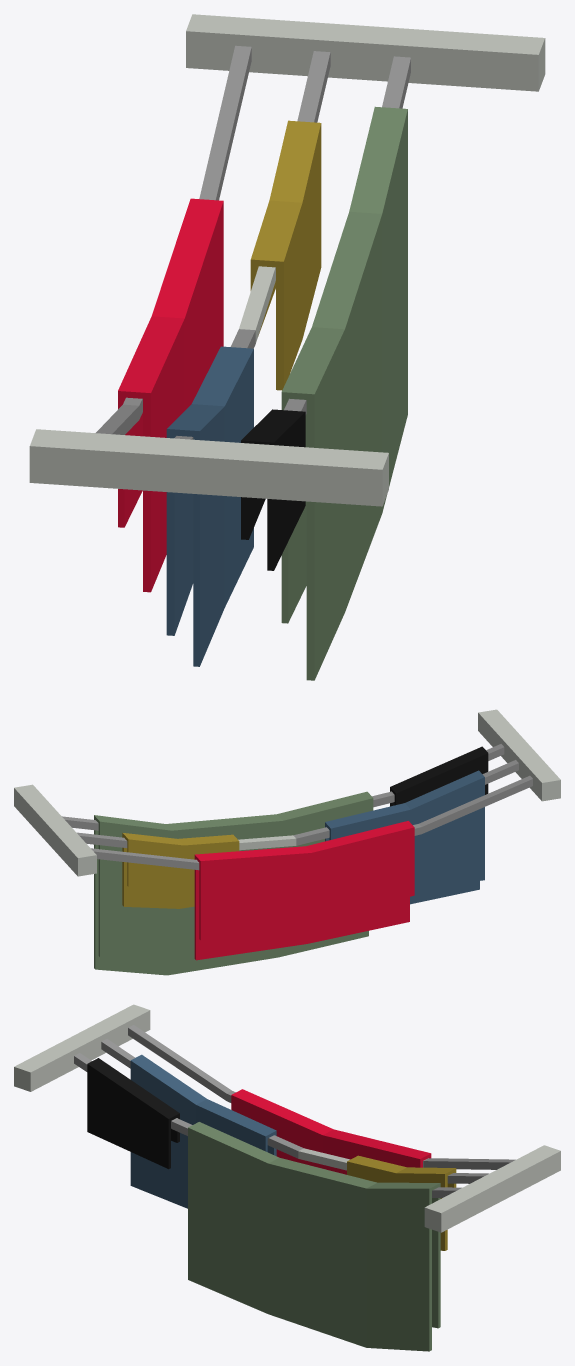
The model's file is Building Clothesline 2.fbx.
The picture shows the model from 3 angles, top to bottom: view 1: azimuth 30°, elevation 25°; view 2: azimuth 150°, elevation 25°; view 3: azimuth 270°, elevation 25°; orthographic projection. The views are drawn at different scales.
Parts seen in each view (by area): view 1: Building Clothesline 2; view 2: Building Clothesline 2; view 3: Building Clothesline 2.
Boxes of the visible parts, left/top/right/bottom form: Building Clothesline 2: left=29, top=14, right=545, bottom=680; Building Clothesline 2: left=14, top=709, right=560, bottom=975; Building Clothesline 2: left=14, top=1004, right=560, bottom=1351.
Bounding box in the file's own units: 290 × 322 × 127.
